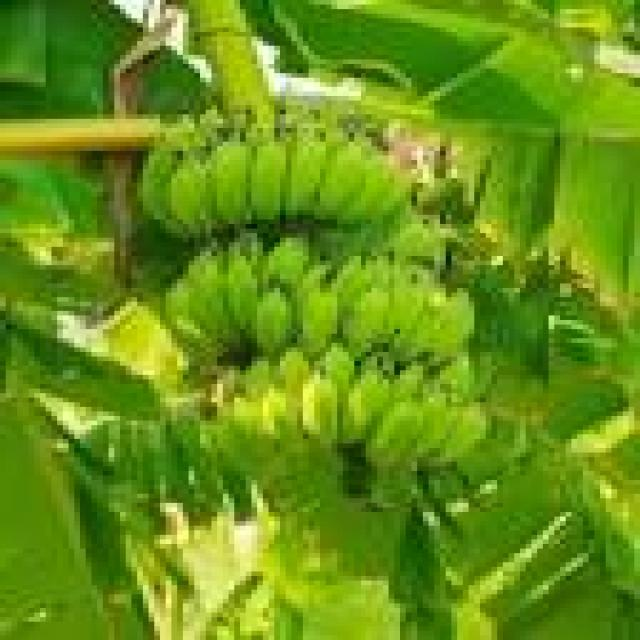banana: (343, 151, 411, 223), (315, 138, 365, 223), (286, 128, 331, 219), (206, 138, 251, 228), (343, 366, 394, 443), (166, 156, 211, 237), (418, 293, 474, 356), (366, 403, 422, 466), (246, 133, 285, 223), (138, 147, 177, 233), (435, 403, 491, 461), (343, 288, 388, 356), (298, 288, 342, 356), (223, 252, 257, 338), (389, 215, 445, 265), (252, 288, 291, 356), (418, 389, 457, 457), (303, 375, 342, 443), (263, 238, 308, 287), (435, 352, 479, 402), (258, 389, 297, 438), (320, 343, 354, 397), (280, 348, 314, 397), (395, 366, 428, 402)
